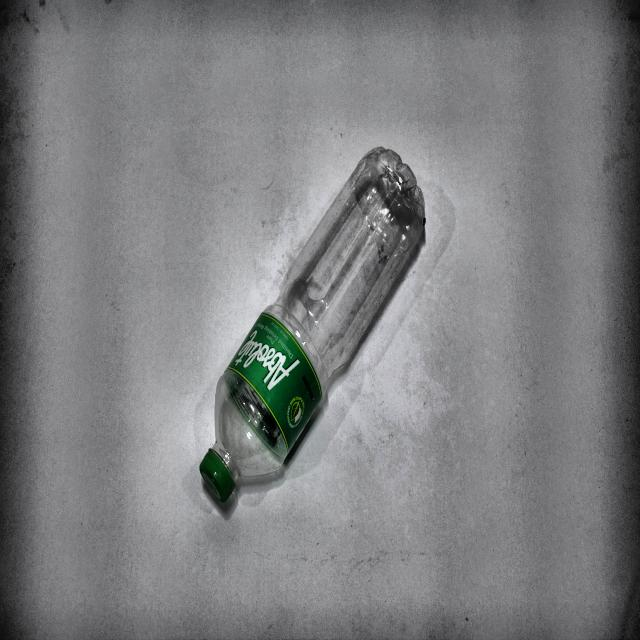Bottles: (198, 141, 430, 514)
